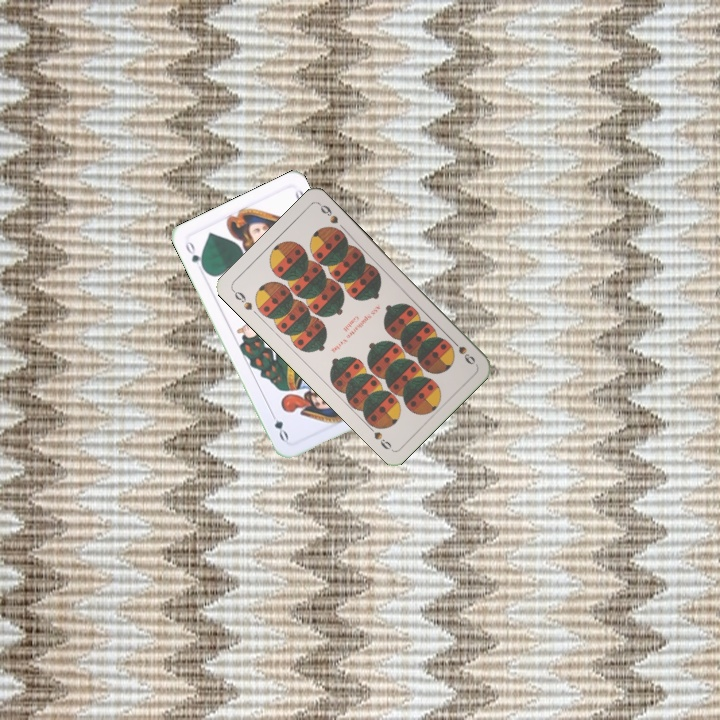GO: (181, 236, 208, 274)
S9: (447, 335, 478, 367), (228, 286, 255, 313)
